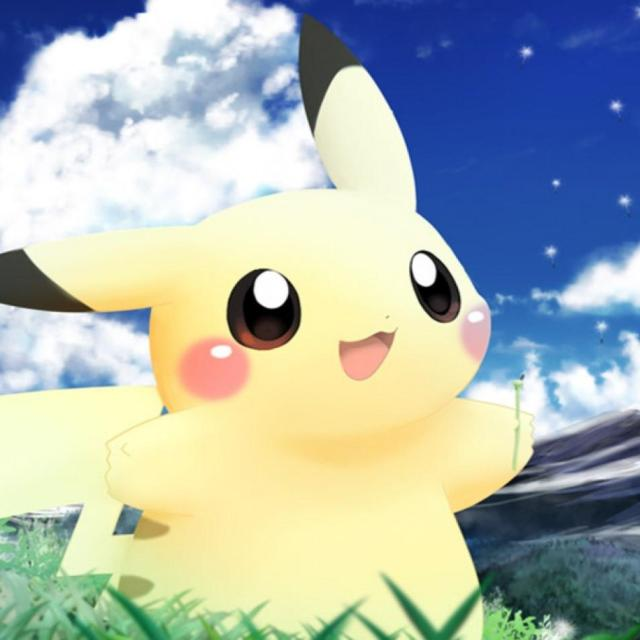pikachu: (0, 21, 535, 640)
